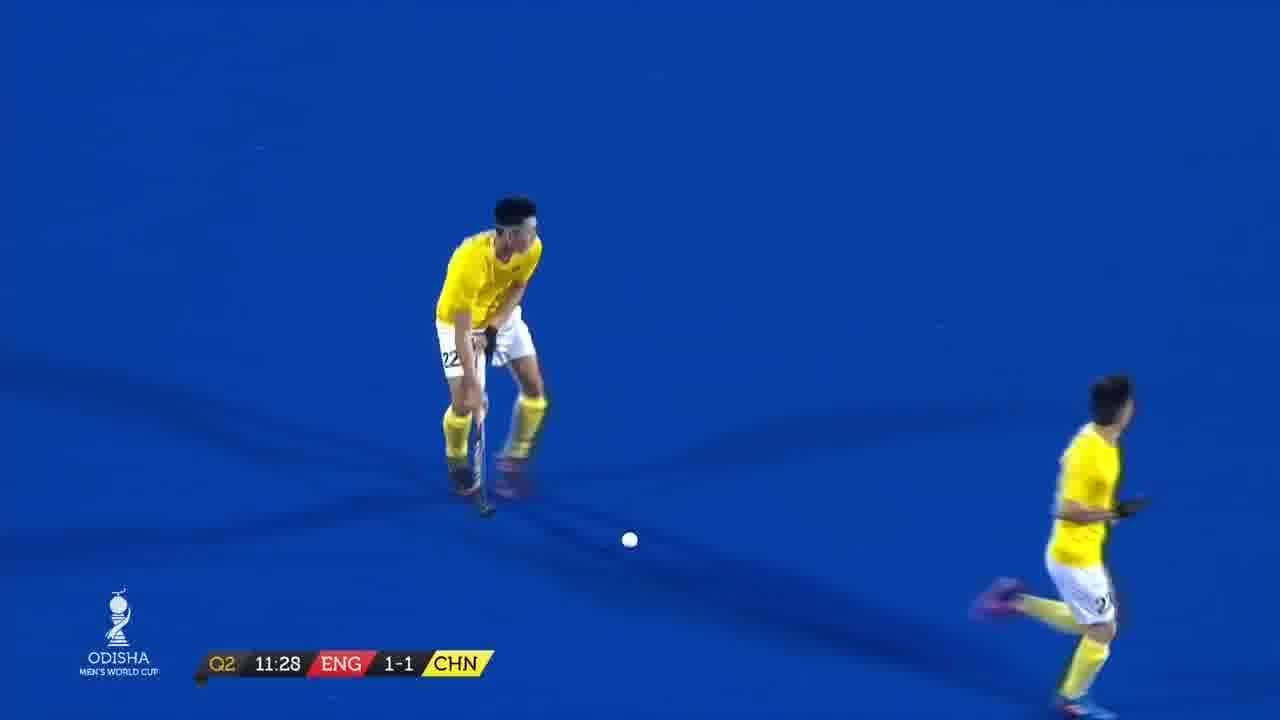ball: (618, 536, 646, 552)
